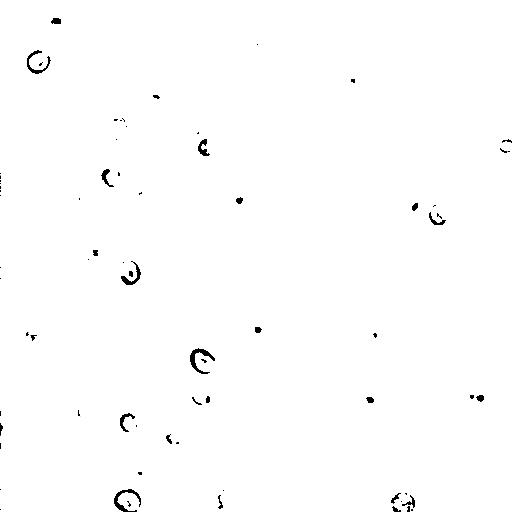micro-algae: (361, 98, 472, 205), (267, 6, 351, 90), (110, 351, 174, 416), (155, 137, 201, 183), (1, 123, 28, 190), (178, 121, 221, 161), (92, 473, 129, 508), (370, 488, 423, 512), (124, 182, 160, 215), (97, 163, 128, 195), (70, 180, 99, 214), (401, 194, 431, 225), (42, 9, 75, 37), (188, 346, 218, 375), (73, 391, 100, 423), (103, 114, 130, 143), (112, 488, 143, 512), (17, 326, 45, 352), (116, 258, 141, 287), (245, 315, 271, 342), (143, 434, 169, 461), (248, 36, 275, 61), (31, 273, 56, 300), (215, 486, 240, 512), (25, 50, 52, 74), (337, 69, 364, 92), (83, 238, 106, 264), (358, 389, 384, 412), (458, 388, 489, 407), (424, 145, 448, 169), (390, 492, 417, 512), (364, 321, 387, 344), (491, 260, 512, 285), (260, 103, 282, 126), (428, 202, 449, 226), (222, 31, 245, 52), (119, 412, 140, 435), (123, 0, 147, 19), (190, 387, 212, 407), (383, 0, 420, 11), (131, 463, 153, 480), (1, 416, 15, 441), (165, 429, 185, 446), (197, 138, 214, 157), (445, 79, 461, 94), (231, 195, 249, 208), (498, 138, 512, 154)
